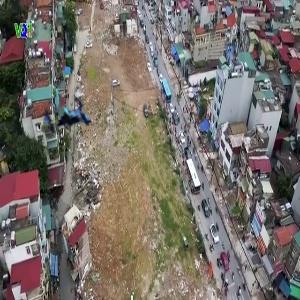drone: (29, 86, 119, 176)
